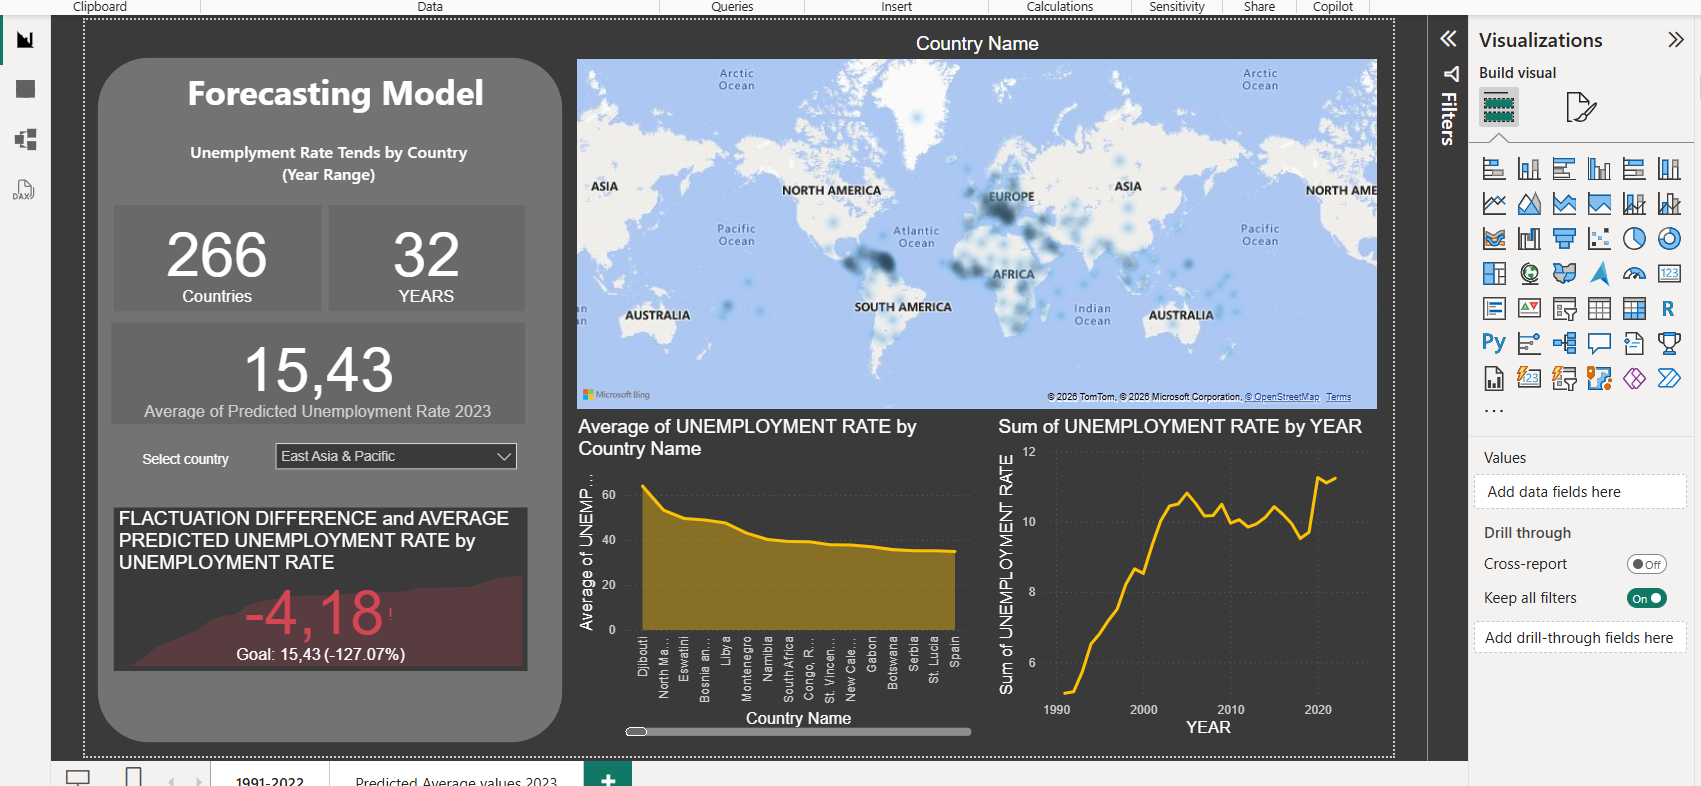

What the dashboard file says about the page in this screenshot:
{"tool":"powerbi","page":{"name":"1991-2022","canvas":[1280,720],"ordinal":0},"visuals":[{"type":"lineChart","fields":{"Category":["Table1.YEAR"],"Y":["Sum(Table1.UNEMPLOYMENT RATE)"]},"box":[887.5,385.9,381.2,320.3],"z":0},{"type":"map","fields":{"Category":["Table1.Country Name"]},"box":[476.6,12.5,792.2,373.4],"z":1000},{"type":"areaChart","fields":{"Category":["Table1.Country Name"],"Y":["Avg(Table1.Unemployment Rate)"]},"box":[476.6,385.9,396.9,320.3],"z":2000},{"type":"shape","box":[12.2,36.7,454.9,670.1],"z":3000},{"type":"card","fields":{"Values":["Count(Table1.Year)"]},"box":[238.5,181,192,103.9],"z":4000},{"type":"actionButton","box":[39.1,24.5,412.1,89.3],"z":5000},{"type":"kpi","fields":{"Goal":["Avg(Table13.Predicted Unemployment Rate 2023)"],"TrendLine":["Table1.Unemployment Rate"],"Indicator":["Table1.CalcSum_Ave"]},"box":[28.1,476.9,404.8,160.2],"z":6000},{"type":"slicer","fields":{"Values":["Table1.Country Name"]},"box":[176.6,403.1,256.2,50],"z":7000},{"type":"card","fields":{"Values":["Table13.Countries"]},"box":[28.1,181,203,103.9],"z":8000},{"type":"actionButton","box":[97.8,113.7,281.3,51.4],"z":9000},{"type":"actionButton","box":[28.1,403.1,140.6,53.1],"z":10000},{"type":"card","fields":{"Values":["Avg(Table13.Predicted Unemployment Rate 2023)"]},"box":[25.7,295.9,404.8,99],"z":11000}]}

Visuals, with their boxes on the page's 1280x720 design canvas (x1, y1, x2, y2). These are canvas units, not pixel positions in the 1701x786 screenshot, which may show the page scaled, cropped or inside an application window:
lineChart - Table1.YEAR x Sum(Table1.UNEMPLOYMENT RATE): {"x1": 888, "y1": 386, "x2": 1269, "y2": 706}
map - Table1.Country Name: {"x1": 477, "y1": 12, "x2": 1269, "y2": 386}
areaChart - Table1.Country Name x Avg(Table1.Unemployment Rate): {"x1": 477, "y1": 386, "x2": 874, "y2": 706}
shape: {"x1": 12, "y1": 37, "x2": 467, "y2": 707}
card - Count(Table1.Year): {"x1": 238, "y1": 181, "x2": 430, "y2": 285}
actionButton: {"x1": 39, "y1": 24, "x2": 451, "y2": 114}
kpi - Avg(Table13.Predicted Unemployment Rate 2023) x Table1.Unemployment Rate: {"x1": 28, "y1": 477, "x2": 433, "y2": 637}
slicer - Table1.Country Name: {"x1": 177, "y1": 403, "x2": 433, "y2": 453}
card - Table13.Countries: {"x1": 28, "y1": 181, "x2": 231, "y2": 285}
actionButton: {"x1": 98, "y1": 114, "x2": 379, "y2": 165}
actionButton: {"x1": 28, "y1": 403, "x2": 169, "y2": 456}
card - Avg(Table13.Predicted Unemployment Rate 2023): {"x1": 26, "y1": 296, "x2": 430, "y2": 395}
